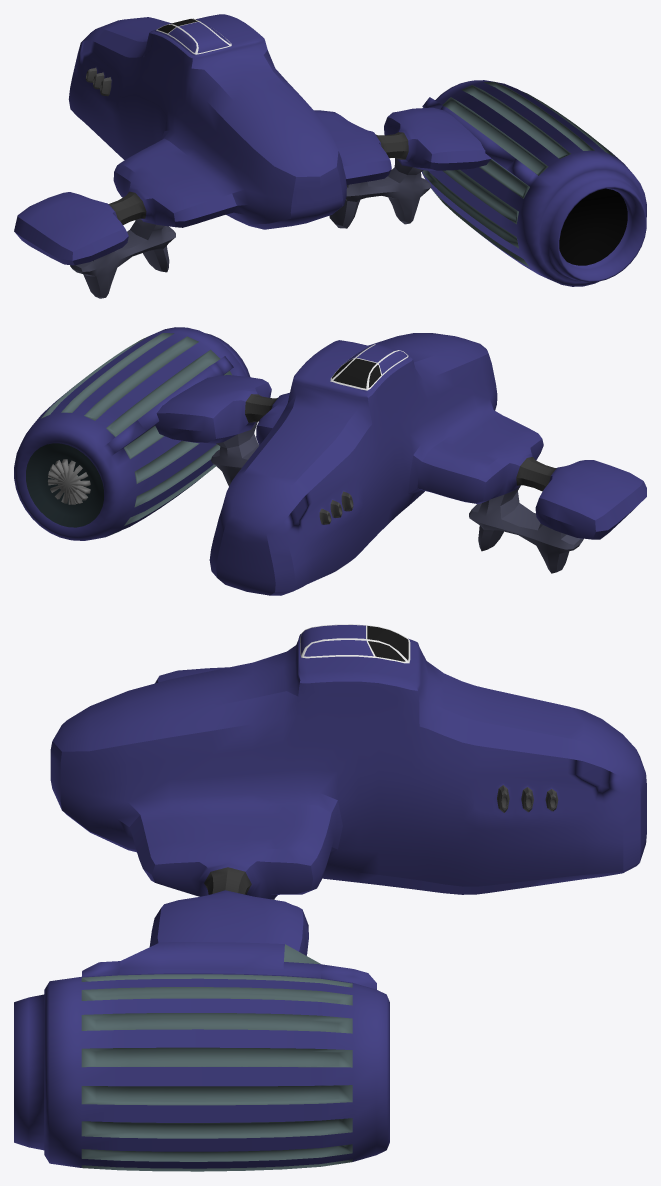
The model's file is humpShip.fbx.
3 renders of one model, top to bottom at view 1: azimuth 30°, elevation 25°; view 2: azimuth 150°, elevation 25°; view 3: azimuth 270°, elevation 25°, orthographic. The views are drawn at different scales.
Parts seen in each view (by area): view 1: Cube, Turbine, Cube.001; view 2: Cube, Turbine, Cube.001; view 3: Cube, Turbine, Cube.001.
Part boxes in pixels (x1,y1,x2,y2): Cube: (14, 14, 491, 298); Turbine: (422, 80, 646, 286); Cube.001: (155, 18, 231, 58); Cube: (155, 333, 646, 595); Turbine: (14, 327, 250, 540); Cube.001: (330, 344, 409, 392); Cube: (50, 634, 646, 955); Turbine: (14, 942, 389, 1171); Cube.001: (300, 624, 411, 663).
Bounding box in the file's own units: 1026 × 446 × 749.
